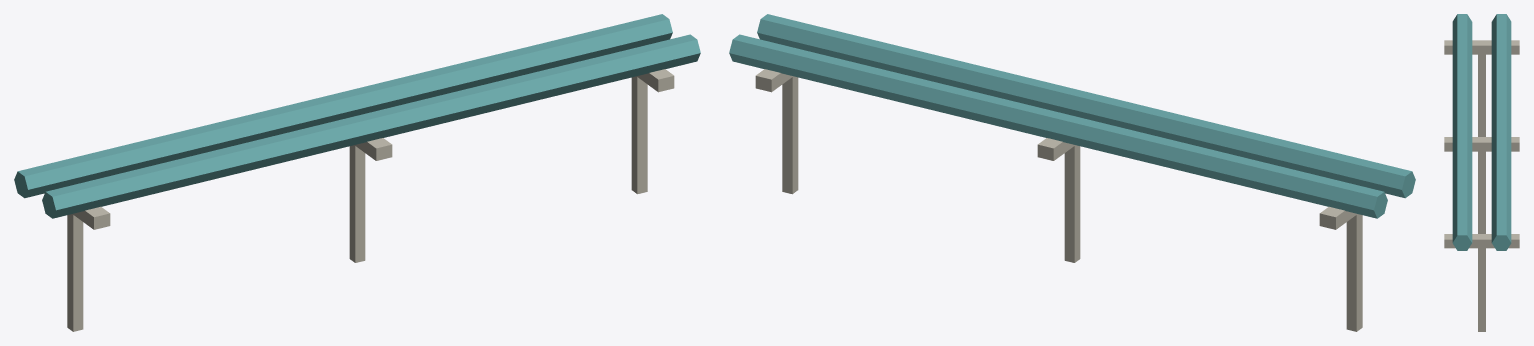
The picture shows the model from 3 angles, left to right: view 1: azimuth 30°, elevation 25°; view 2: azimuth 150°, elevation 25°; view 3: azimuth 270°, elevation 25°; orthographic projection. The views are drawn at different scales.
Bounding box in the file's own units: 16 × 3.66 × 2.3.
